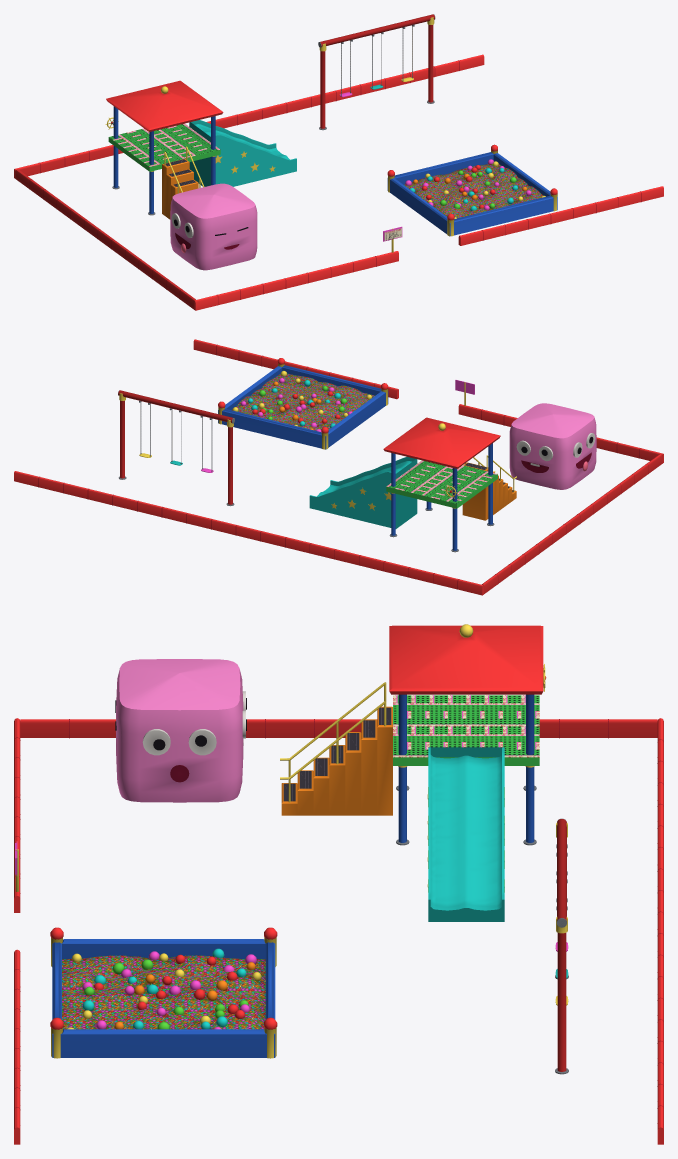
The model's file is p_playground.glb.
3 renders of one model, top to bottom at view 1: azimuth 30°, elevation 25°; view 2: azimuth 150°, elevation 25°; view 3: azimuth 270°, elevation 25°, orthographic. The views are drawn at different scales.
Visible parts, largest first — view 1: pg_candy_tower_lod0, pg_candy_pit_lod0, pg_candy_edge_lod0, pg_candy_block_lod0, pg_candy_edge_se_lod0, pg_candy_swings_lod0, pg_metal_swings_lod0; view 2: pg_candy_tower_lod0, pg_candy_edge_lod0, pg_candy_pit_lod0, pg_candy_block_lod0, pg_candy_swings_lod0, pg_candy_edge_se_lod0, pg_metal_swings_lod0; view 3: pg_candy_tower_lod0, pg_candy_pit_lod0, pg_candy_block_lod0, pg_candy_edge_lod0, pg_candy_swings_lod0, pg_candy_edge_se_lod0.
Part boxes in pixels (x1,y1,x2,y2): pg_candy_tower_lod0: (105,80,296,219); pg_candy_pit_lod0: (387,144,557,236); pg_candy_edge_lod0: (14,54,484,310); pg_candy_block_lod0: (170,183,257,270); pg_candy_edge_se_lod0: (458,186,663,245); pg_candy_swings_lod0: (319,14,434,128); pg_metal_swings_lod0: (318,14,435,130); pg_candy_tower_lod0: (309,417,516,550); pg_candy_edge_lod0: (14,380,663,595); pg_candy_pit_lod0: (218,358,388,449); pg_candy_block_lod0: (509,403,596,489); pg_candy_swings_lod0: (118,390,233,504); pg_candy_edge_se_lod0: (193,339,398,399); pg_metal_swings_lod0: (118,390,234,506); pg_candy_tower_lod0: (280,624,546,921); pg_candy_pit_lod0: (50,927,277,1058); pg_candy_block_lod0: (115,659,246,802); pg_candy_edge_lod0: (14,718,663,1144); pg_candy_swings_lod0: (555,819,568,1071); pg_candy_edge_se_lod0: (14,949,20,1144).
Size of what is drawn, in the model's own units: 30.4 by 6.73 by 20.41.
Materials: 2 (2 with a texture image).
